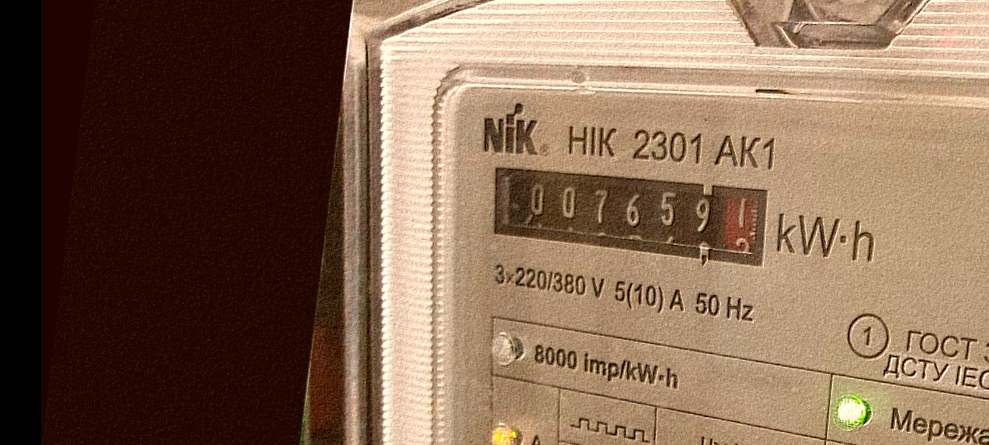0: (557, 181, 582, 224), (527, 180, 551, 220)
1: (731, 193, 754, 232)
5: (655, 188, 682, 230)
6: (621, 188, 648, 231)
7: (588, 185, 615, 226)
9: (691, 194, 716, 237)
screen: (478, 152, 779, 278)
